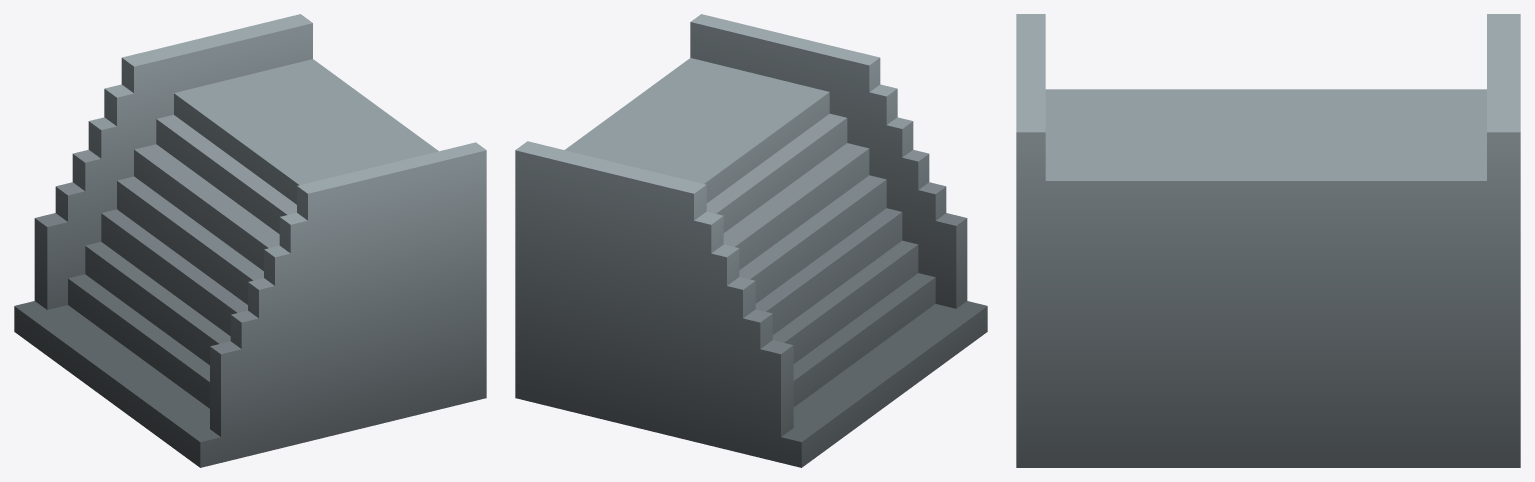
File: stair_case.glb
3 renders of one model, left to right at view 1: azimuth 30°, elevation 25°; view 2: azimuth 150°, elevation 25°; view 3: azimuth 270°, elevation 25°, orthographic. The views are drawn at different scales.
Parts seen in each view (by area): view 1: Staircase; view 2: Staircase; view 3: Staircase.
Boxes of the visible parts, x1,y1,x2,y2 form: Staircase: (14, 14, 486, 467); Staircase: (515, 14, 987, 467); Staircase: (1016, 14, 1520, 467).
Size of the model in its own units: 5.33 by 4.41 by 6.
Materials: 1 (1 with a texture image).
